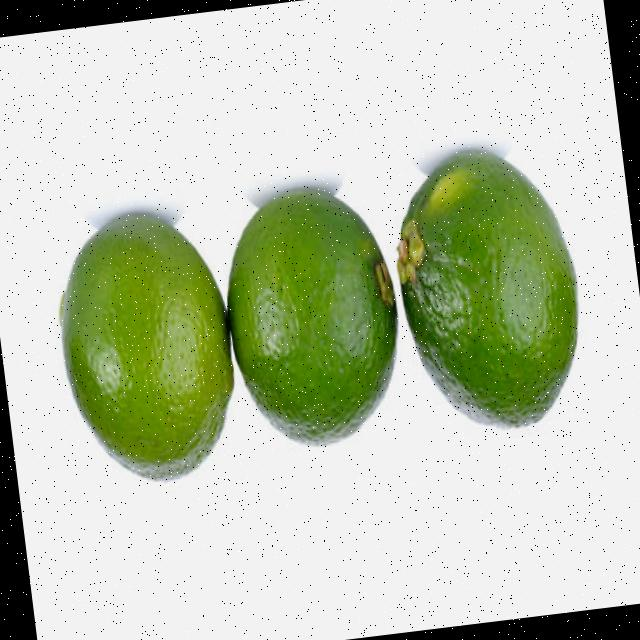Unripe: (383, 139, 596, 441), (45, 200, 247, 491), (213, 178, 415, 458)
